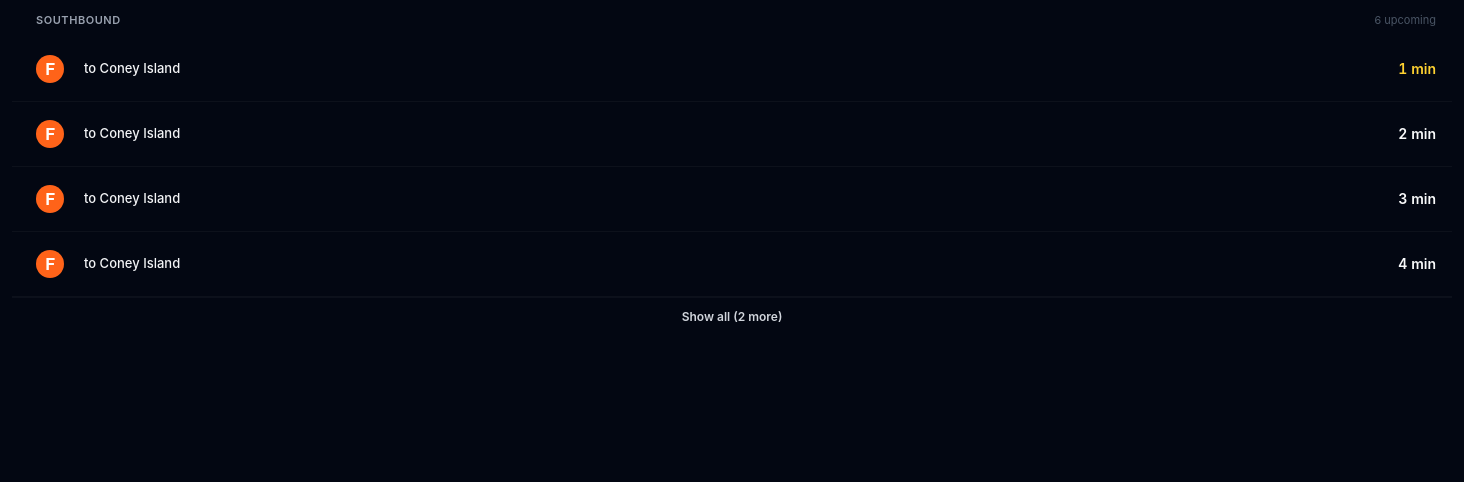
Test: DirectionSection disclosure button › flips aria-expanded to true and reveals every row when expanded
This screenshot has width=1464, height=482.
Click the button "Show all (2 more)" at coordinates (732, 316), box [12, 296, 1452, 336]
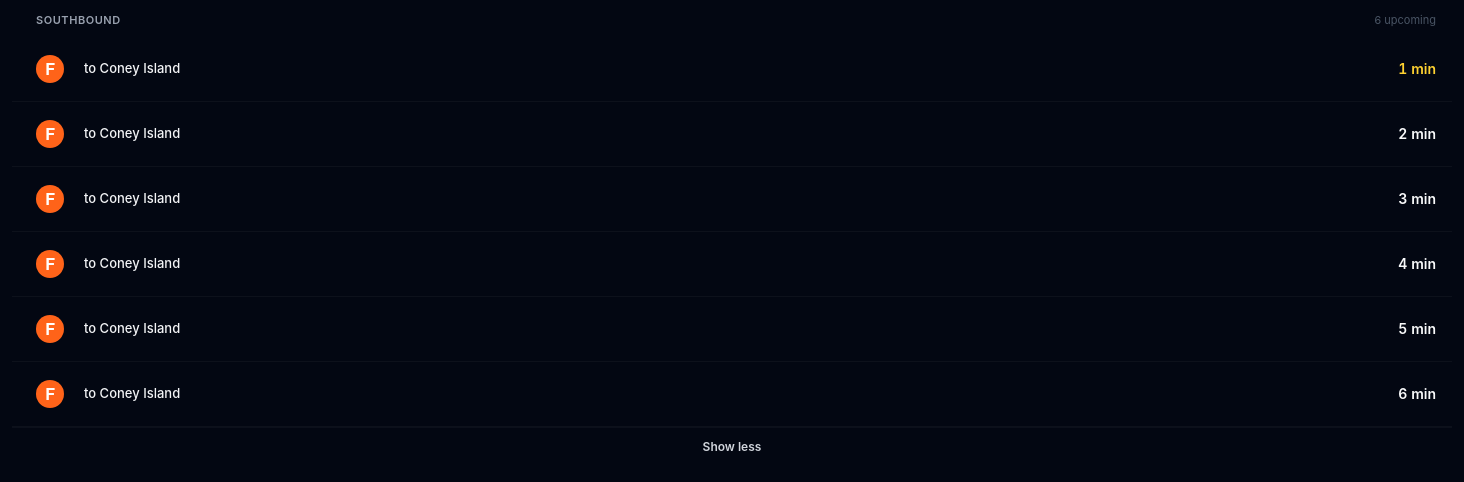
Expected: the button "Show less" is shown, [12, 426, 1452, 466]
Expected: the button "Show less" is expanded, [12, 426, 1452, 466]
Expected: the text "to Coney Island" is shown 6 times, [84, 60, 180, 76]; [84, 125, 180, 141]; [84, 190, 180, 206]; [84, 255, 180, 271]; [84, 320, 180, 336]; [84, 385, 180, 401]
